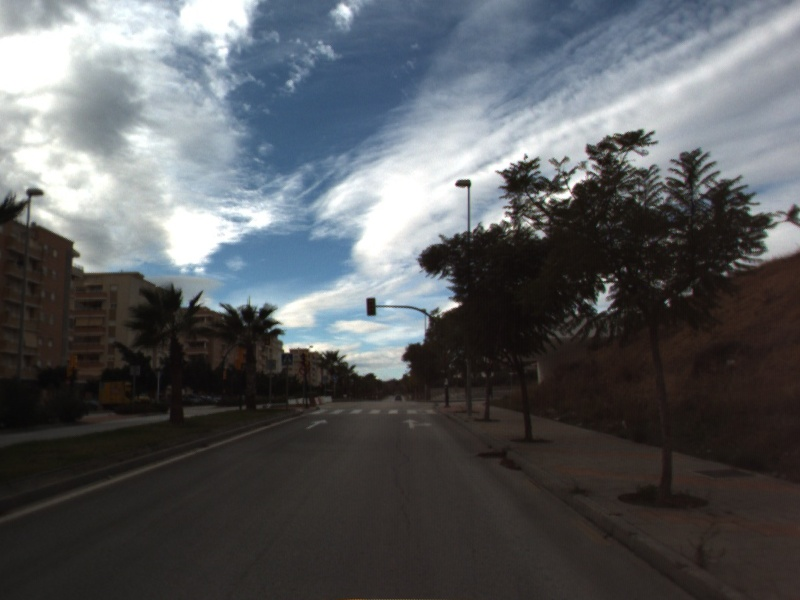STRAIGHT: (303, 417, 330, 431)
STRAIGHT_RIGHT: (401, 416, 435, 431)
